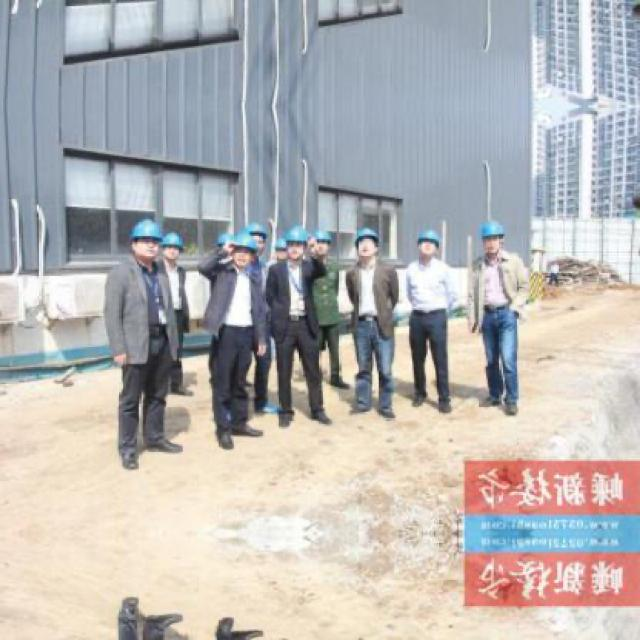con casco: (355, 226, 422, 273), (114, 218, 166, 278), (218, 230, 272, 279), (269, 226, 320, 277), (463, 209, 512, 262), (417, 230, 466, 260), (250, 220, 280, 256), (161, 230, 178, 265), (315, 230, 330, 263)
